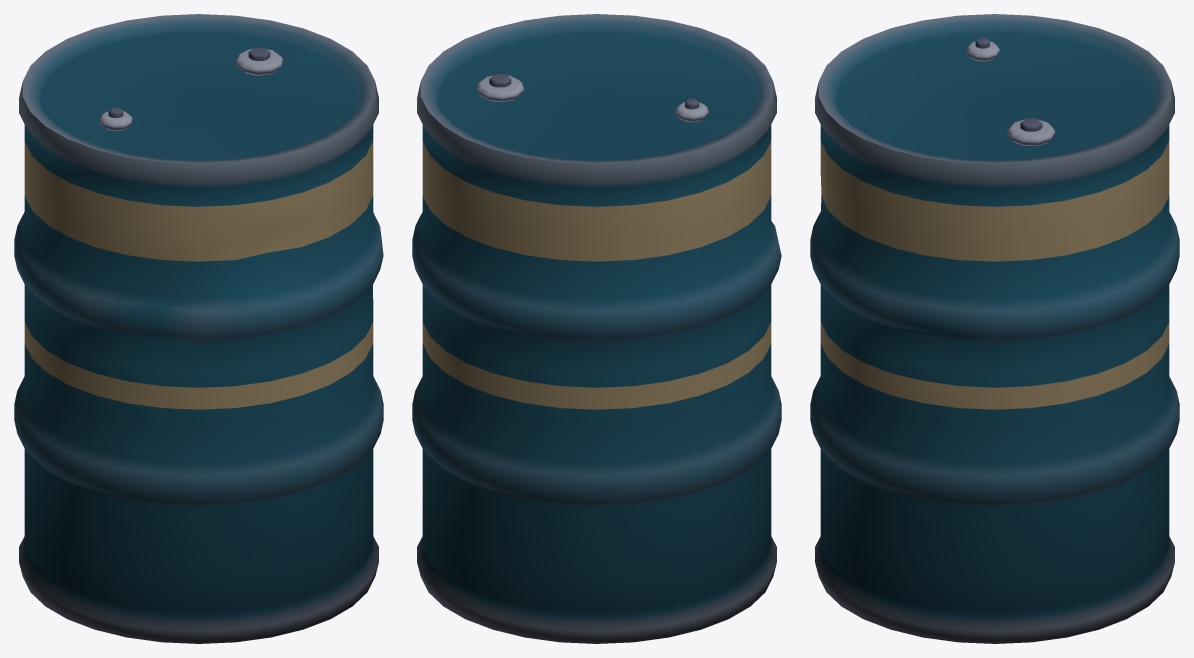
File: bidon.glb
The picture shows the model from 3 angles, left to right: view 1: azimuth 30°, elevation 25°; view 2: azimuth 150°, elevation 25°; view 3: azimuth 270°, elevation 25°; orthographic projection.
Parts seen in each view (by area): view 1: bidon; view 2: bidon; view 3: bidon.
Boxes of the visible parts, x1=… form: bidon: x1=14, y1=14, x2=383, y2=643; bidon: x1=412, y1=14, x2=781, y2=643; bidon: x1=810, y1=14, x2=1179, y2=643.
Bounding box in the file's own units: 0.614 × 0.89 × 0.6106.
